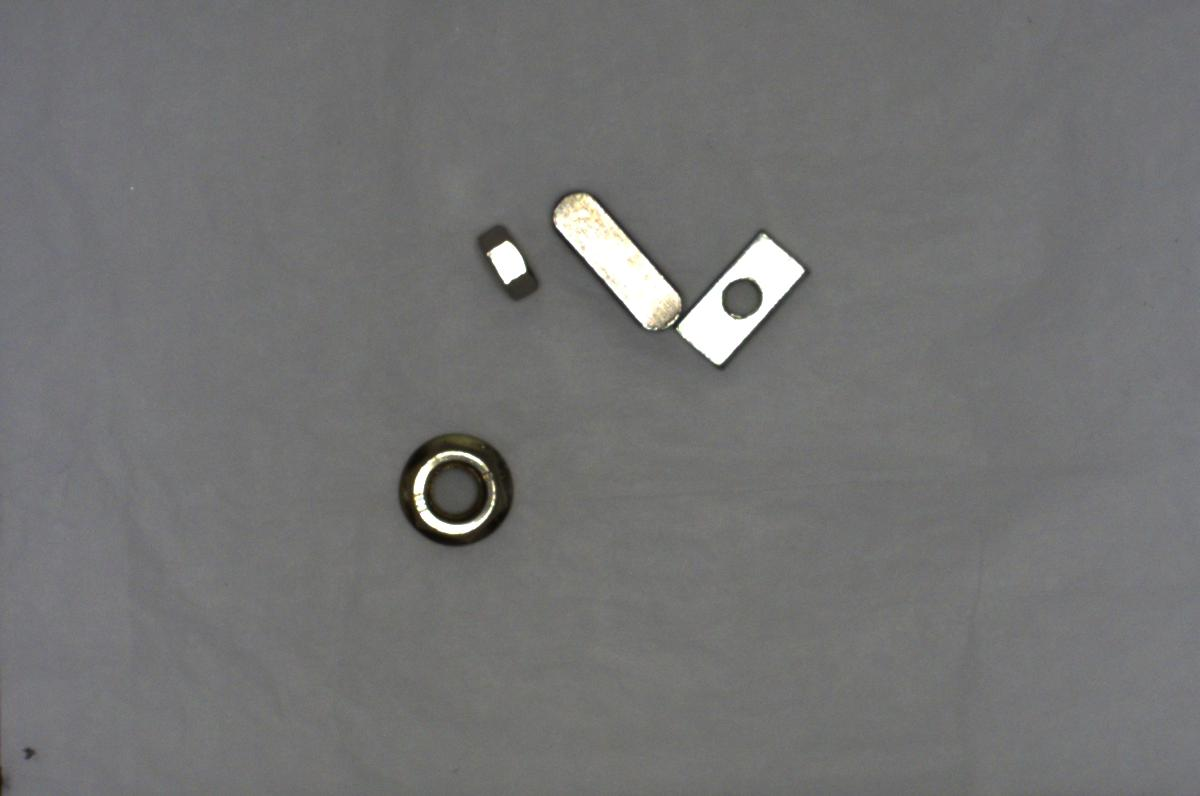Flange nut: (387, 426, 522, 546)
Hexagon nut: (471, 220, 544, 302)
Keybar: (550, 186, 682, 339)
Rectangular nut: (664, 226, 814, 365)
